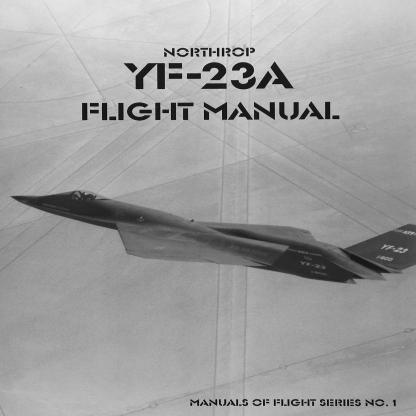YF23: (11, 191, 416, 286)
